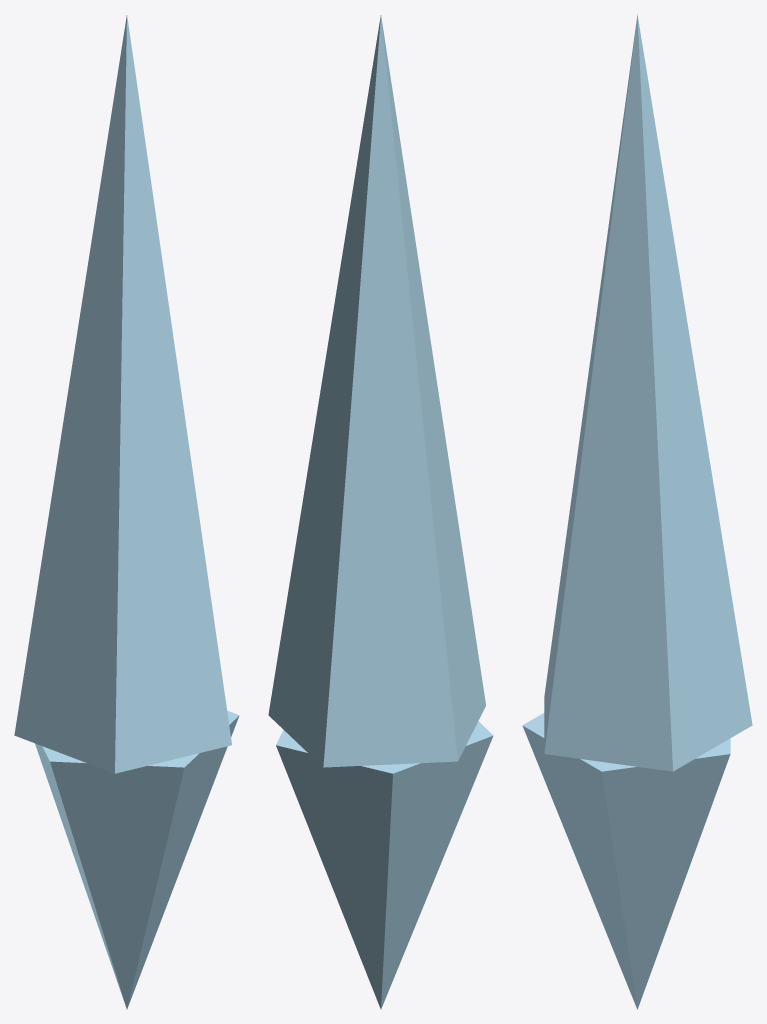
Rendered from ice_shard.glb.
3 views of the same model, side by side, from view 1: azimuth 30°, elevation 25°; view 2: azimuth 150°, elevation 25°; view 3: azimuth 270°, elevation 25° (orthographic).
Visible parts, largest first — view 1: Shard; view 2: Shard; view 3: Shard.
Boxes of the visible parts, left/top/right/bottom form: Shard: left=14, top=15, right=239, bottom=1009; Shard: left=268, top=15, right=493, bottom=1009; Shard: left=522, top=14, right=752, bottom=1009.
Size of the model in its own units: 0.2092 by 1.05 by 0.22.
